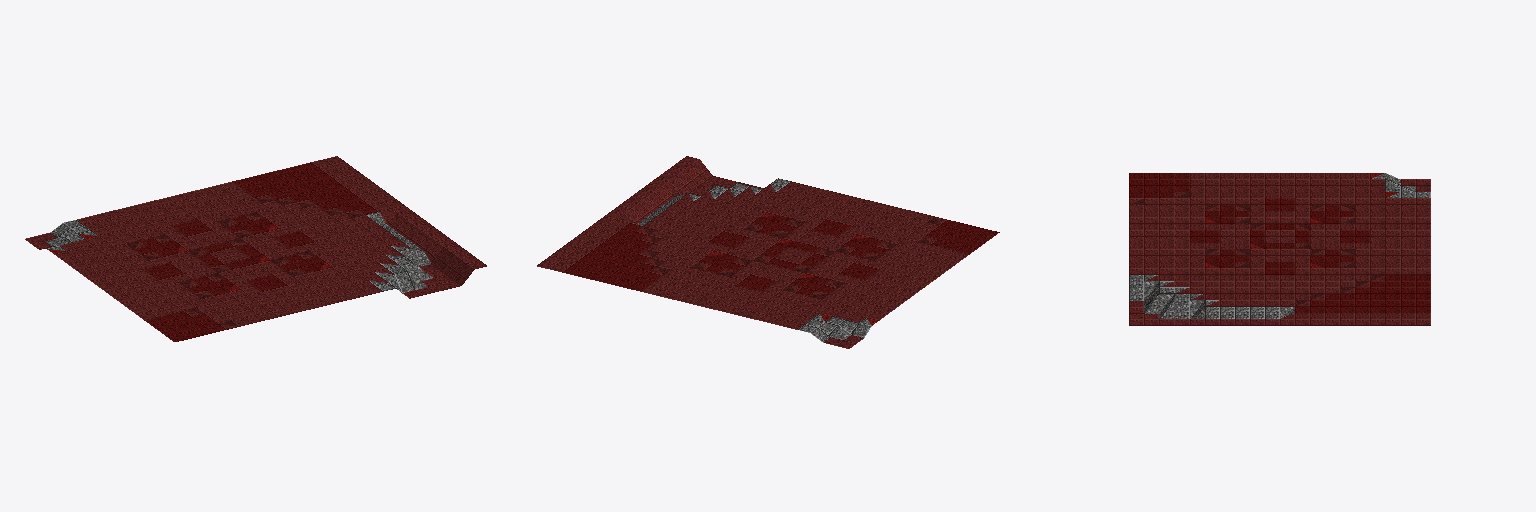
3 views of the same model, side by side, from view 1: azimuth 30°, elevation 25°; view 2: azimuth 150°, elevation 25°; view 3: azimuth 270°, elevation 25° (orthographic).
Visible parts, largest first — view 1: FloorSide_2; view 2: FloorSide_2; view 3: FloorSide_2.
Part boxes in pixels (x1,y1,x2,y2): FloorSide_2: (25, 156, 486, 341); FloorSide_2: (537, 156, 999, 348); FloorSide_2: (1129, 173, 1430, 325).
Size of the model in its own units: 24 by 0.9857 by 20.
Materials: 12 (12 with a texture image).